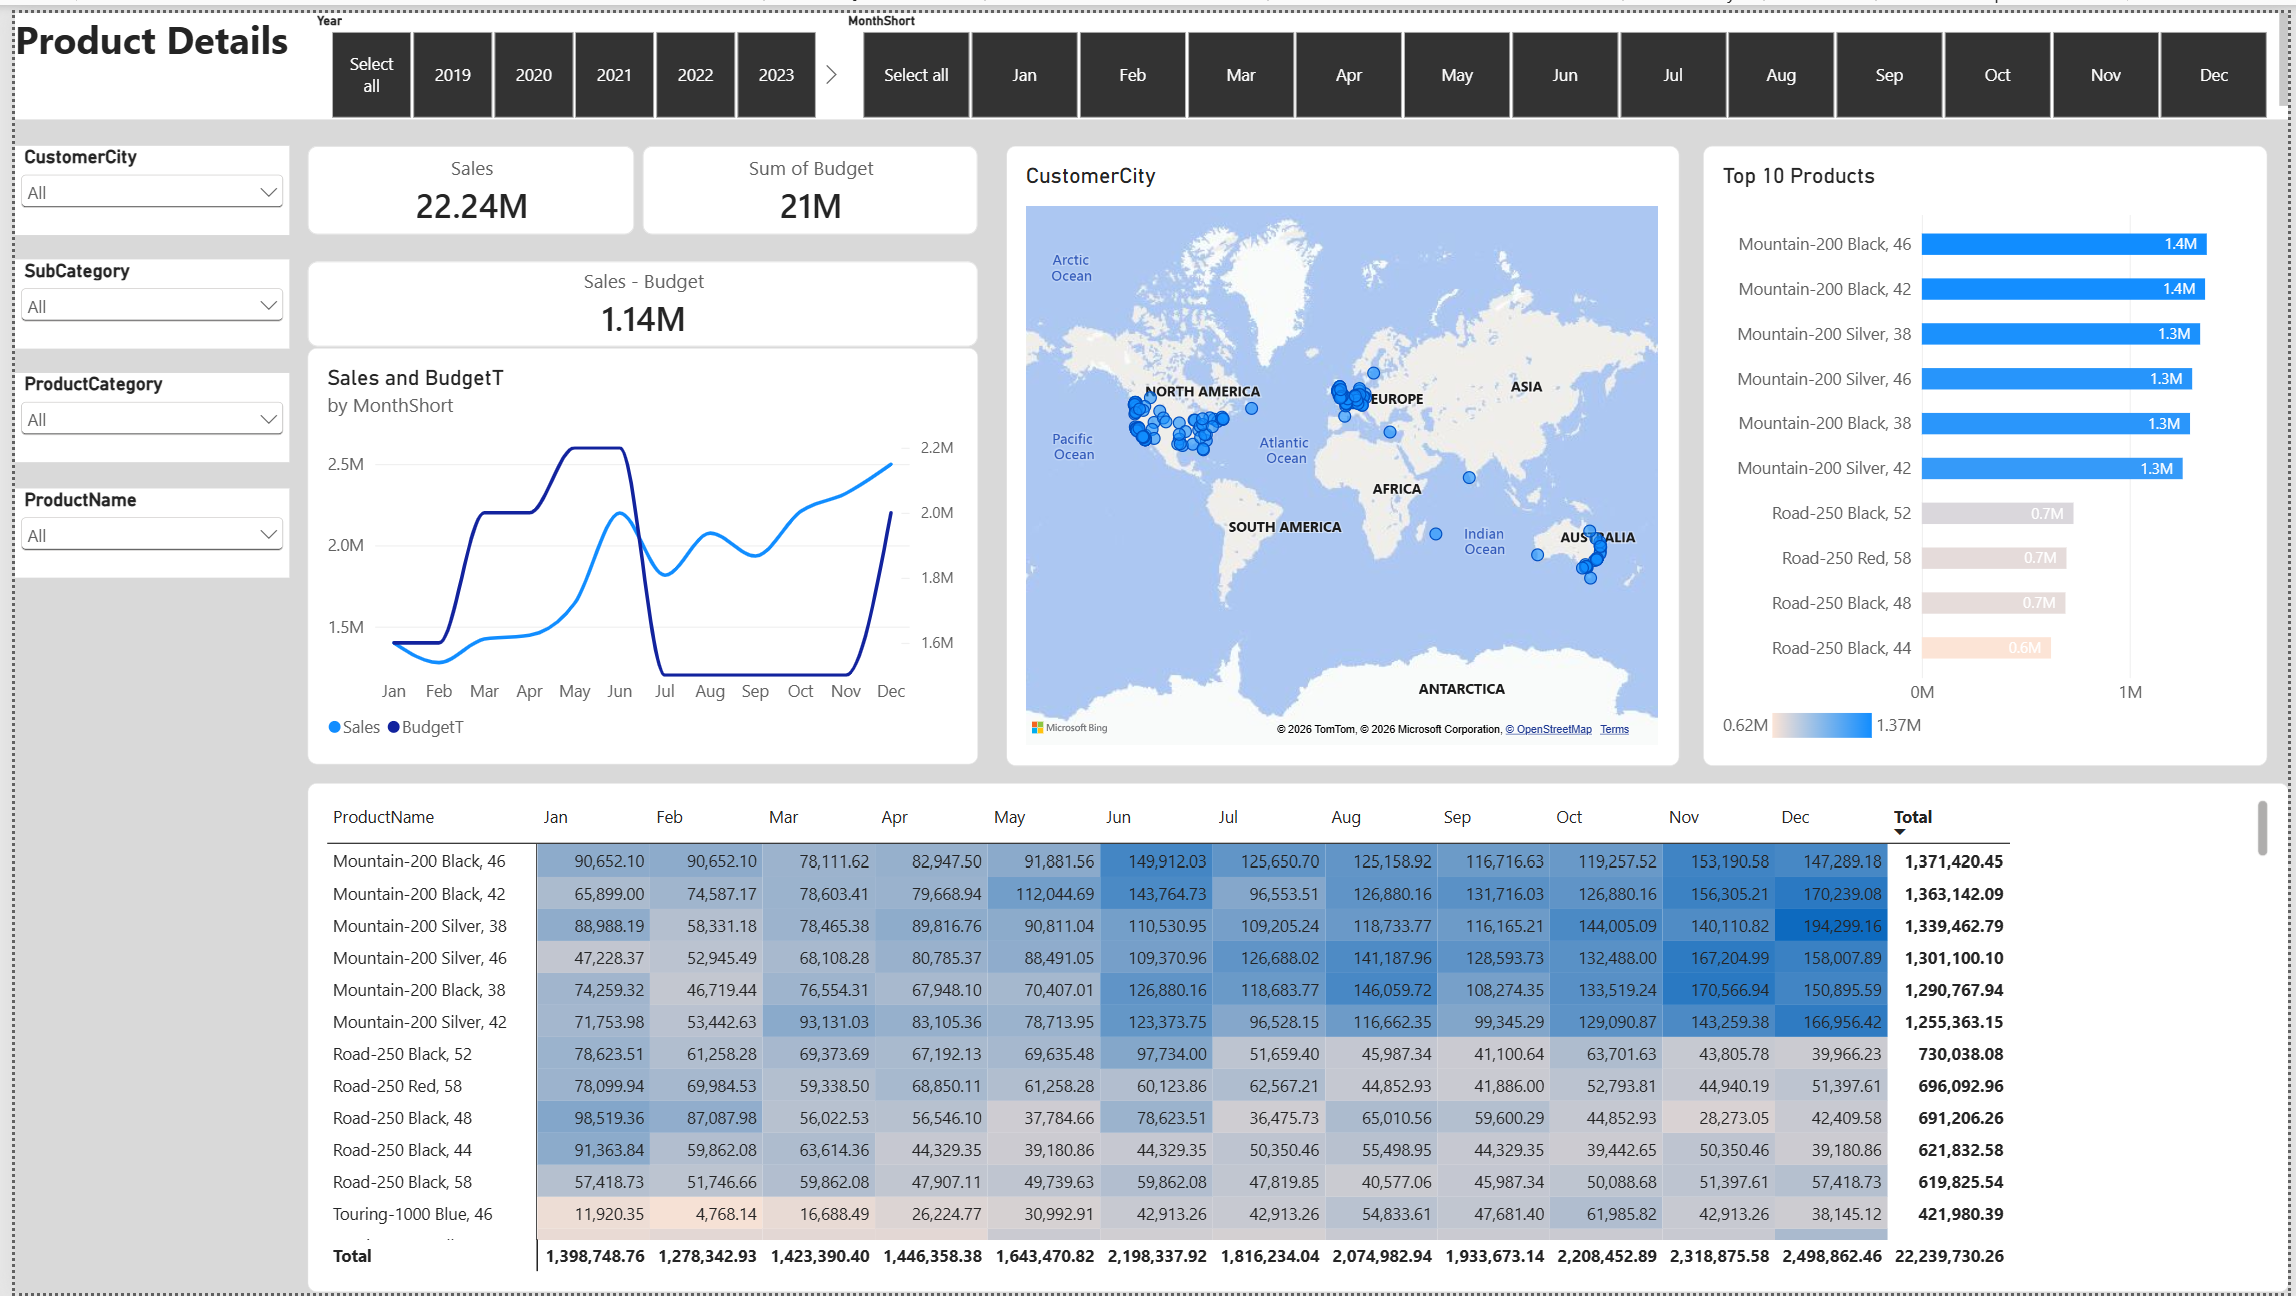

The dashboard page shown, as its layout file describes it:
{"tool":"powerbi","page":{"name":"Product Details","canvas":[1920,1080],"ordinal":2},"visuals":[{"type":"textbox","box":[0,0,1919.9,90.1],"z":0},{"type":"slicer","fields":{"Values":["dim_customers.CustomerCity"]},"box":[0,111.5,231.7,75.1],"z":1000},{"type":"slicer","fields":{"Values":["dim_products.SubCategory"]},"box":[0,208.1,231.7,75.1],"z":2000},{"type":"slicer","fields":{"Values":["dim_products.ProductCategory"]},"box":[0,304.6,231.7,75.1],"z":3000},{"type":"slicer","fields":{"Values":["dim_products.ProductName"]},"box":[0,401.1,231.7,75.1],"z":4000},{"type":"slicer","fields":{"Values":["dim_calendar.Date.Variation.Date Hierarchy.Year"]},"box":[246.7,0,448.3,90.1],"z":5000},{"type":"slicer","fields":{"Values":["dim_calendar.MonthShort"]},"box":[695,0,1224.9,90.1],"z":6000},{"type":"cardVisual","fields":{"Data":["fact_internetSales.Sales"]},"box":[246.7,111.5,276.7,75.1],"z":7000},{"type":"cardVisual","fields":{"Data":["Sum(Fact_budget.Budget)"]},"box":[529.8,111.5,283.2,75.1],"z":8000},{"type":"cardVisual","fields":{"Data":["fact_internetSales.Sales - Budget"]},"box":[246.7,210.2,566.3,72.9],"z":9000},{"type":"lineChart","fields":{"Category":["dim_calendar.MonthShort"],"Y":["Key Measures.Sales"],"Y2":["Key Measures.BudgetT"]},"box":[246.7,283.2,566.3,351.8],"z":10000},{"type":"map","fields":{"Category":["dim_customers.CustomerCity"]},"box":[836.6,111.5,568.5,523.4],"z":12000},{"type":"pivotTable","fields":{"Columns":["dim_calendar.MonthShort"],"Rows":["dim_products.ProductName"],"Values":["Key Measures.Sales"]},"box":[246.7,650,1673.2,429],"z":13000},{"type":"barChart","title":"Top 10 Products","fields":{"Category":["dim_products.ProductName"],"Y":["Key Measures.Sales"]},"box":[1426.5,111.5,476.2,523.4],"z":13001}]}

Visuals, with their boxes in screenshot pixels (x1, y1, x2, y2), scaled from the page's 1920x1080 canvas onto the 2296x1296 screenshot:
textbox: {"x1": 0, "y1": 0, "x2": 2295, "y2": 108}
slicer - dim_customers.CustomerCity: {"x1": 0, "y1": 134, "x2": 277, "y2": 224}
slicer - dim_products.SubCategory: {"x1": 0, "y1": 250, "x2": 277, "y2": 340}
slicer - dim_products.ProductCategory: {"x1": 0, "y1": 366, "x2": 277, "y2": 456}
slicer - dim_products.ProductName: {"x1": 0, "y1": 481, "x2": 277, "y2": 571}
slicer - dim_calendar.Date.Variation.Date Hierarchy.Year: {"x1": 295, "y1": 0, "x2": 831, "y2": 108}
slicer - dim_calendar.MonthShort: {"x1": 831, "y1": 0, "x2": 2295, "y2": 108}
cardVisual - fact_internetSales.Sales: {"x1": 295, "y1": 134, "x2": 626, "y2": 224}
cardVisual - Sum(Fact_budget.Budget): {"x1": 634, "y1": 134, "x2": 972, "y2": 224}
cardVisual - fact_internetSales.Sales - Budget: {"x1": 295, "y1": 252, "x2": 972, "y2": 340}
lineChart - dim_calendar.MonthShort x Key Measures.Sales: {"x1": 295, "y1": 340, "x2": 972, "y2": 762}
map - dim_customers.CustomerCity: {"x1": 1000, "y1": 134, "x2": 1680, "y2": 762}
pivotTable - dim_calendar.MonthShort x dim_products.ProductName: {"x1": 295, "y1": 780, "x2": 2295, "y2": 1295}
"Top 10 Products" barChart: {"x1": 1706, "y1": 134, "x2": 2275, "y2": 762}
